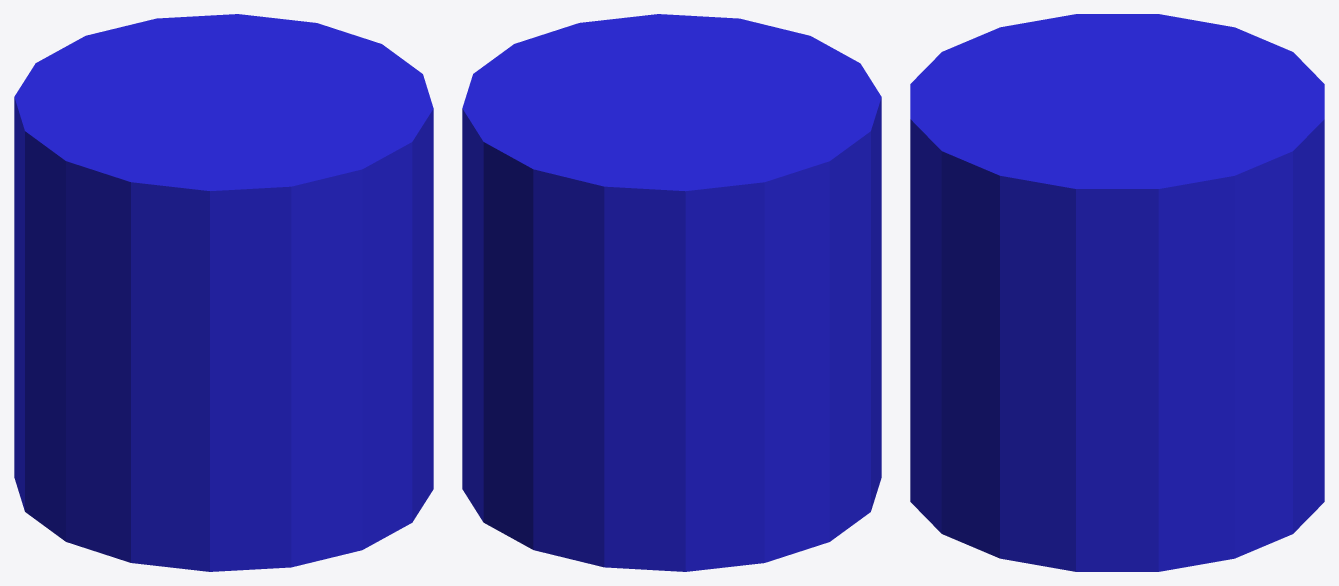
Rendered from Tabung.fbx.
The picture shows the model from 3 angles, left to right: view 1: azimuth 30°, elevation 25°; view 2: azimuth 150°, elevation 25°; view 3: azimuth 270°, elevation 25°; orthographic projection.
Visible parts, largest first — view 1: Cylinder.001, Cylinder.016, Cylinder.015, Cylinder.017, Cylinder.014, Cylinder.002, Cylinder.013, Cylinder.003, Cylinder.012; view 2: Cylinder.001, Cylinder.010, Cylinder.011, Cylinder.009, Cylinder.012, Cylinder.008, Cylinder.013, Cylinder.007, Cylinder.014; view 3: Cylinder.001, Cylinder.005, Cylinder.006, Cylinder.004, Cylinder.007, Cylinder.003, Cylinder.008, Cylinder.002.
Part boxes in pixels (x1=…): Cylinder.001: x1=14, y1=14, x2=433, y2=190; Cylinder.016: x1=210, y1=186, x2=291, y2=571; Cylinder.015: x1=131, y1=182, x2=209, y2=571; Cylinder.017: x1=291, y1=169, x2=362, y2=567; Cylinder.014: x1=66, y1=161, x2=130, y2=562; Cylinder.002: x1=362, y1=142, x2=412, y2=549; Cylinder.013: x1=25, y1=131, x2=65, y2=541; Cylinder.003: x1=412, y1=109, x2=433, y2=522; Cylinder.012: x1=14, y1=97, x2=24, y2=510; Cylinder.001: x1=462, y1=14, x2=881, y2=191; Cylinder.010: x1=604, y1=186, x2=685, y2=571; Cylinder.011: x1=685, y1=182, x2=764, y2=571; Cylinder.009: x1=533, y1=169, x2=604, y2=567; Cylinder.012: x1=764, y1=161, x2=829, y2=562; Cylinder.008: x1=483, y1=142, x2=533, y2=549; Cylinder.013: x1=829, y1=131, x2=870, y2=541; Cylinder.007: x1=462, y1=109, x2=483, y2=522; Cylinder.014: x1=871, y1=97, x2=881, y2=510; Cylinder.001: x1=910, y1=14, x2=1324, y2=188; Cylinder.005: x1=1076, y1=189, x2=1158, y2=571; Cylinder.006: x1=1158, y1=176, x2=1234, y2=571; Cylinder.004: x1=1000, y1=176, x2=1075, y2=571; Cylinder.007: x1=1234, y1=151, x2=1292, y2=558; Cylinder.003: x1=941, y1=151, x2=999, y2=558; Cylinder.008: x1=1293, y1=119, x2=1324, y2=533; Cylinder.002: x1=910, y1=119, x2=941, y2=533.
Bounding box in the file's own units: 196 × 200 × 196.
